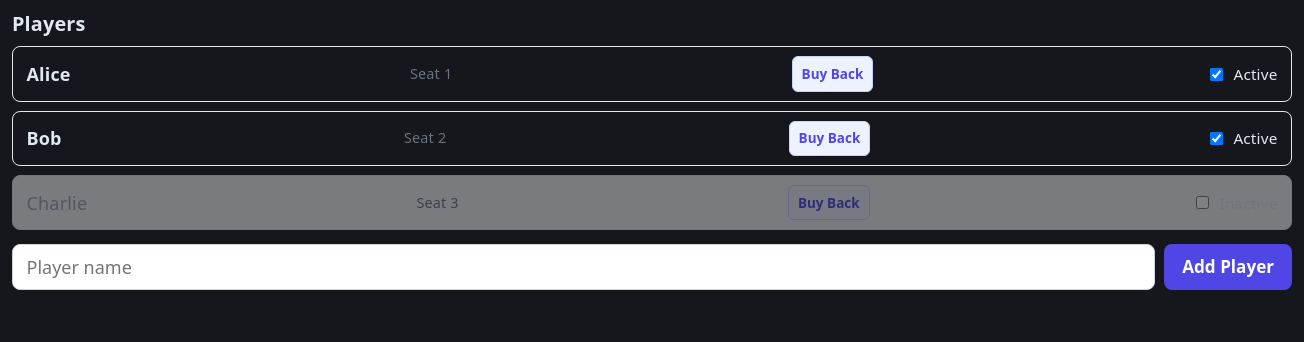
GamePlayerManagement › shows inline error when toggle fails
This screenshot has width=1304, height=342.
Check: the text "Alice" is shown, box [26, 61, 71, 87]
Click the checkbox with test id "toggle-Alice".
click(1217, 74)  # box [1210, 68, 1223, 80]
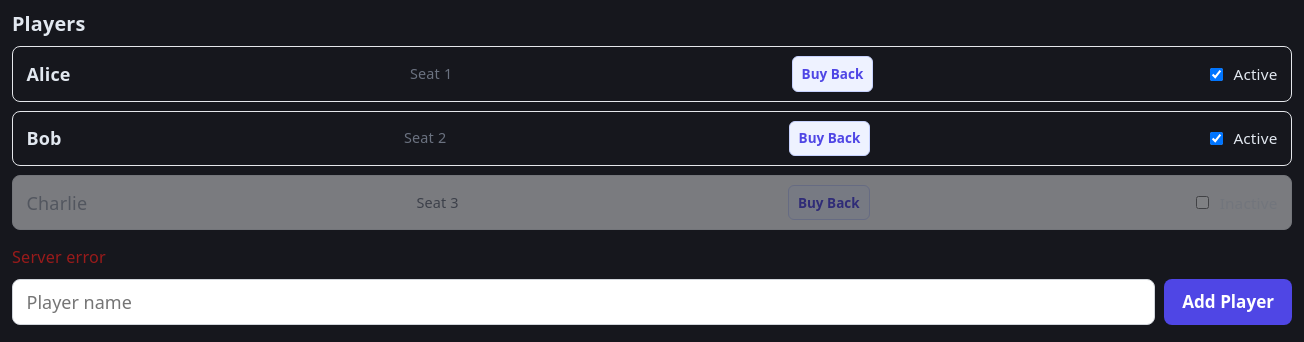
Check: the text "Server error" is shown, box [12, 246, 106, 268]
